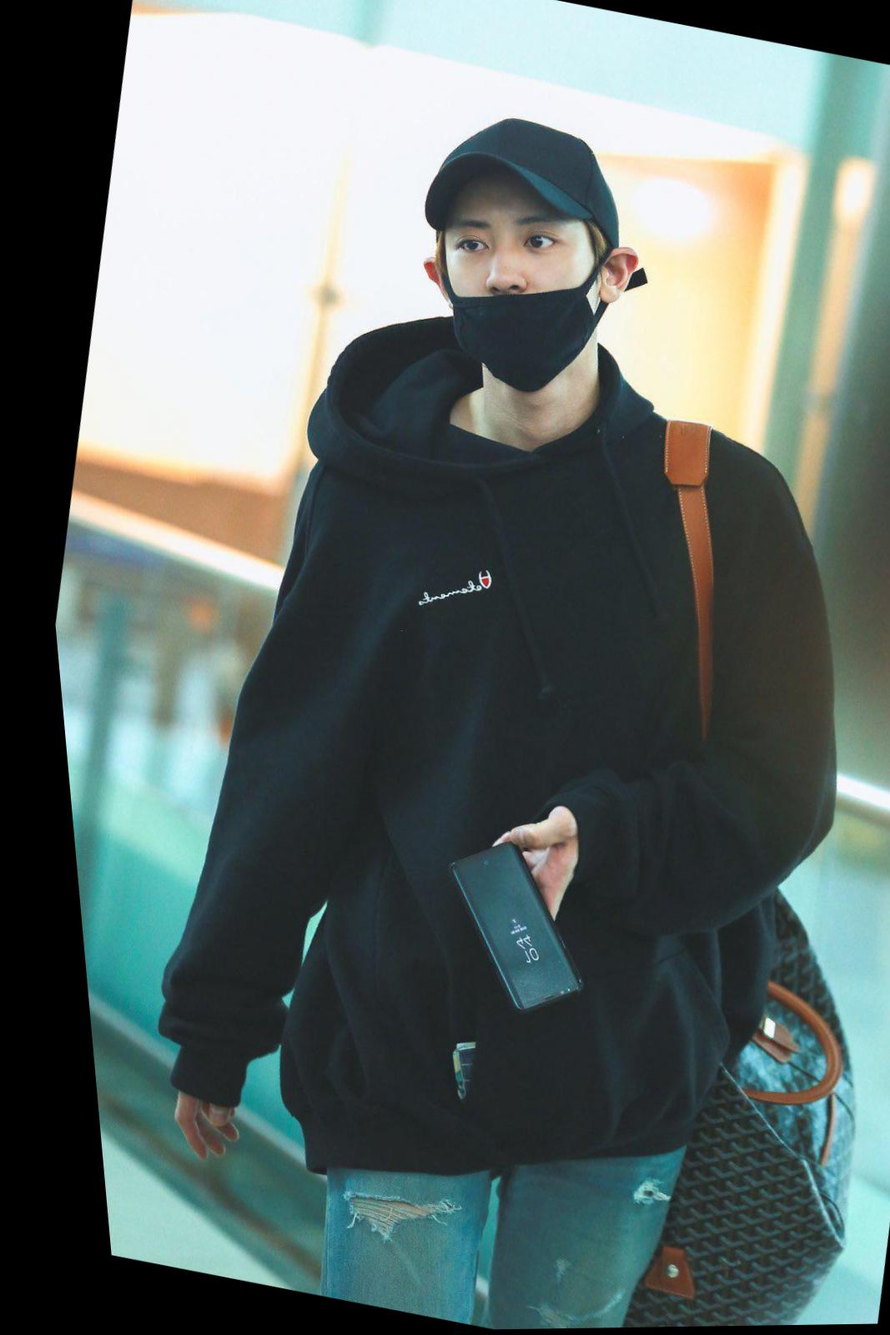WRONG: (410, 180, 611, 400)
